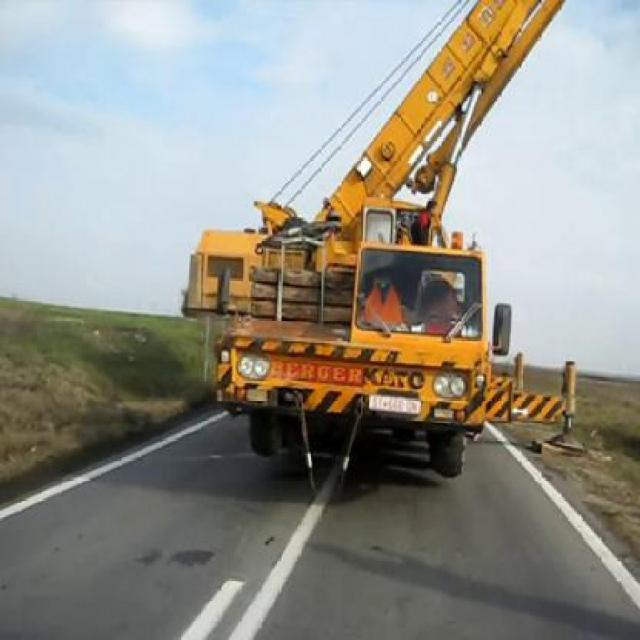Mobile Crane: (178, 0, 583, 475)
